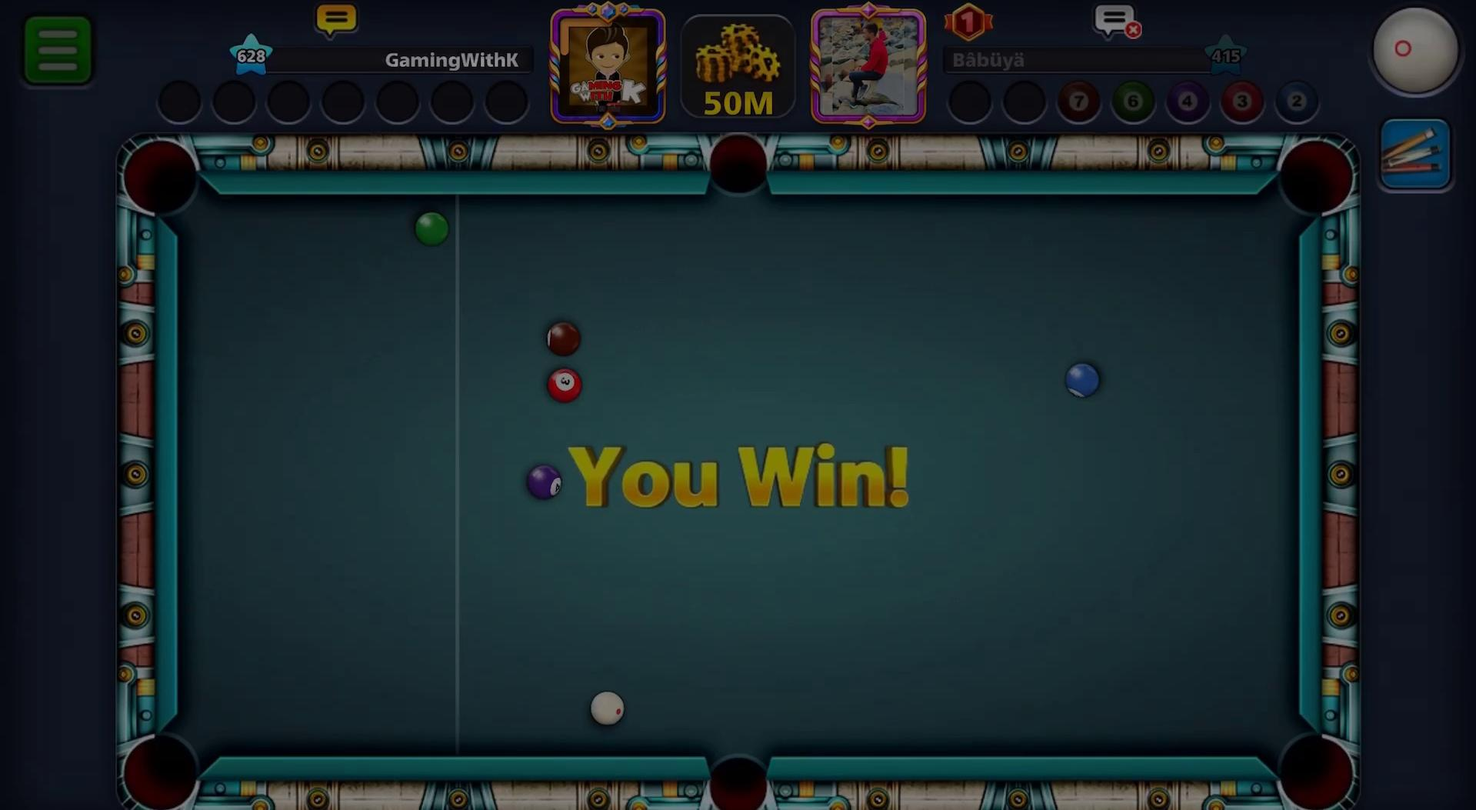Ball: (537, 359, 594, 416), (515, 457, 571, 512), (530, 315, 585, 365), (1061, 359, 1106, 405), (408, 210, 449, 249)
Hole: (1253, 706, 1370, 809), (103, 712, 221, 809), (105, 124, 212, 230), (1267, 128, 1364, 232), (699, 118, 789, 216), (685, 725, 788, 809)
Play_Area: (175, 194, 1298, 758)
Spin: (1361, 0, 1475, 111)
White: (578, 688, 633, 732)
